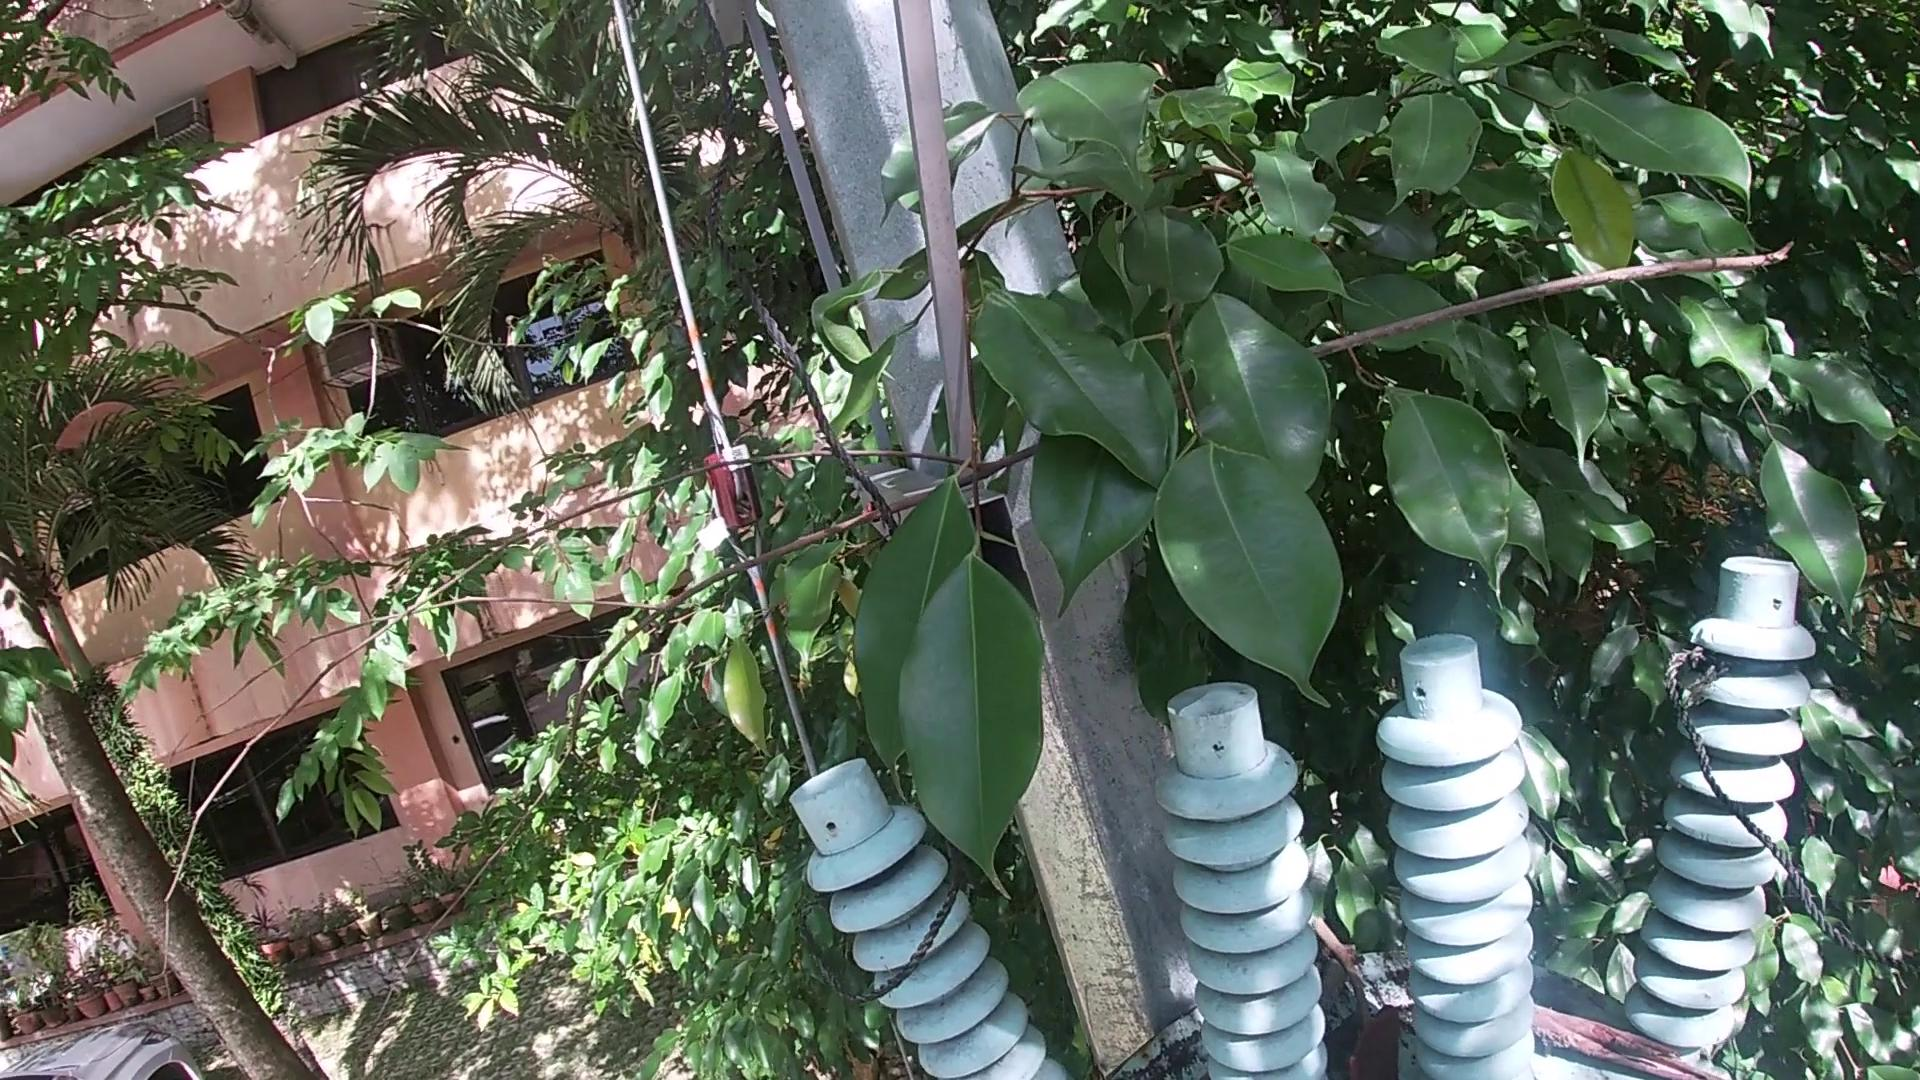mahogany fruit: (1335, 998, 1403, 1080)
tree branch: (105, 207, 1821, 1011), (1527, 993, 1734, 1080), (1313, 914, 1367, 1035), (1308, 943, 1361, 1025)
